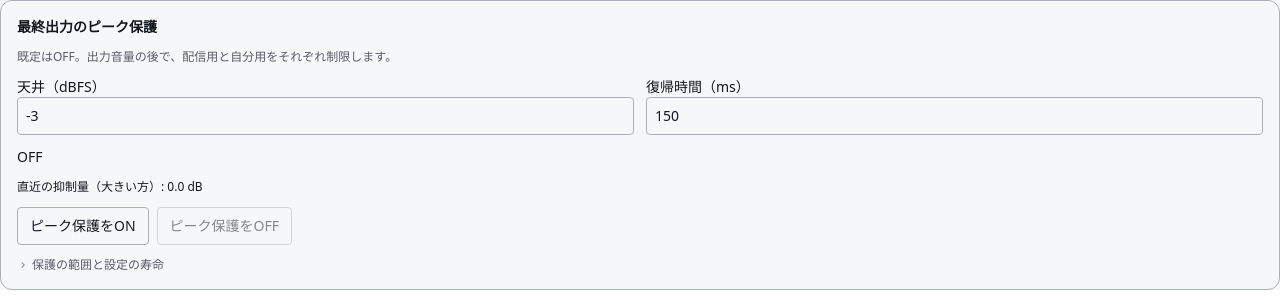
失敗や停止通知より古い適用応答で確認済みに戻さない
Click the button "ピーク保護をON" at (83, 226), box [17, 207, 149, 245]
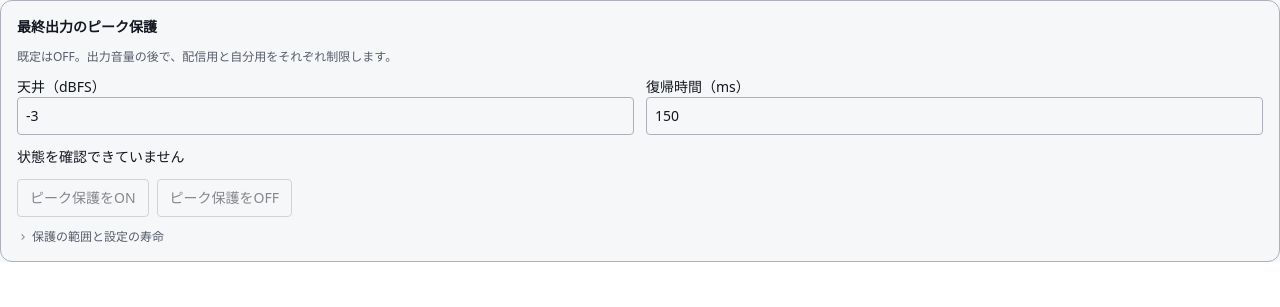
Result: the text "状態を確認できていません" is shown at [17, 147, 185, 166]
Result: the button "ピーク保護をON" is disabled at [17, 179, 149, 217]
